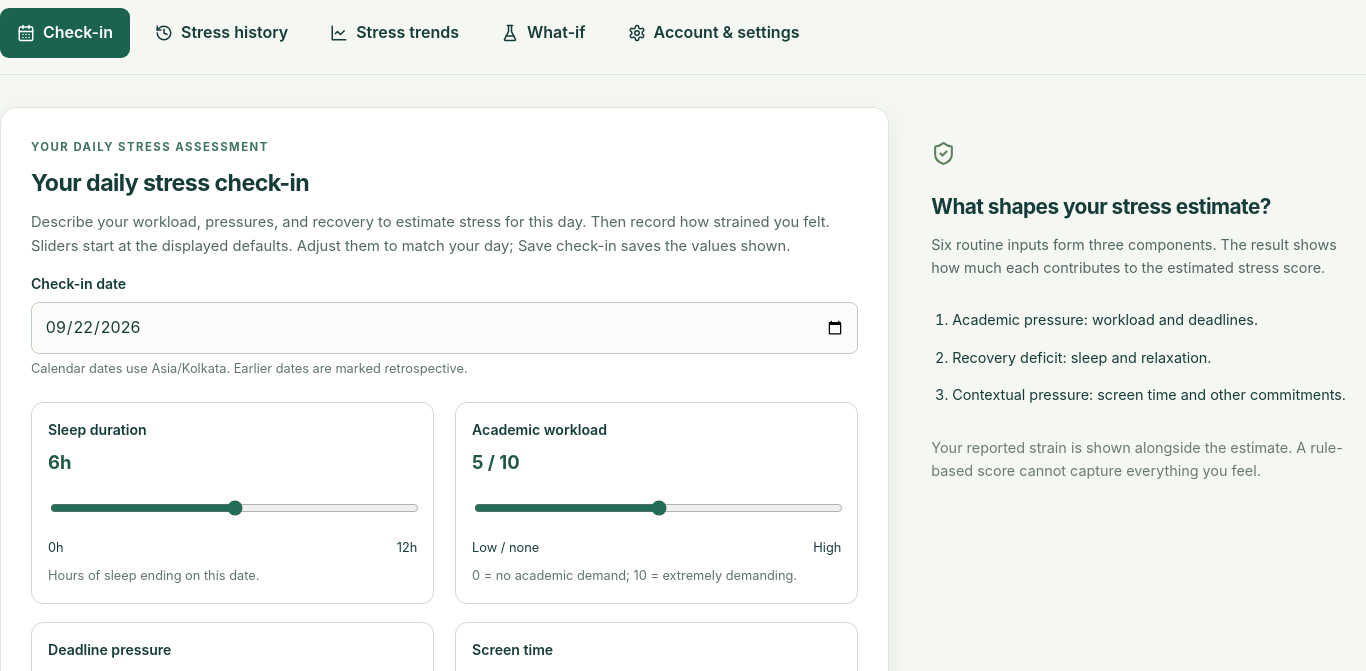
it: discards a superseded patterns response
The width and height of the screenshot is (1366, 671).
Click the button "Stress trends": (395, 33) [313, 8, 476, 58]
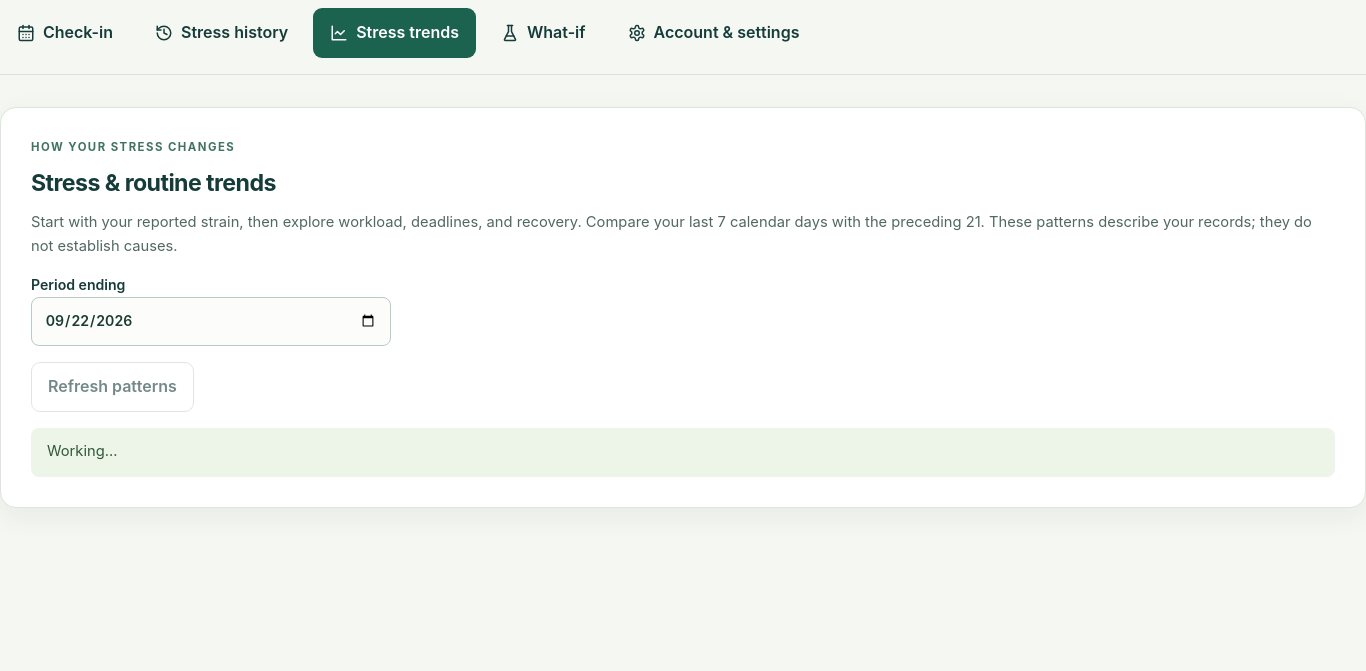
In the date field labelled "Period ending": (211, 321) [31, 297, 391, 346], type "2026-09-07"
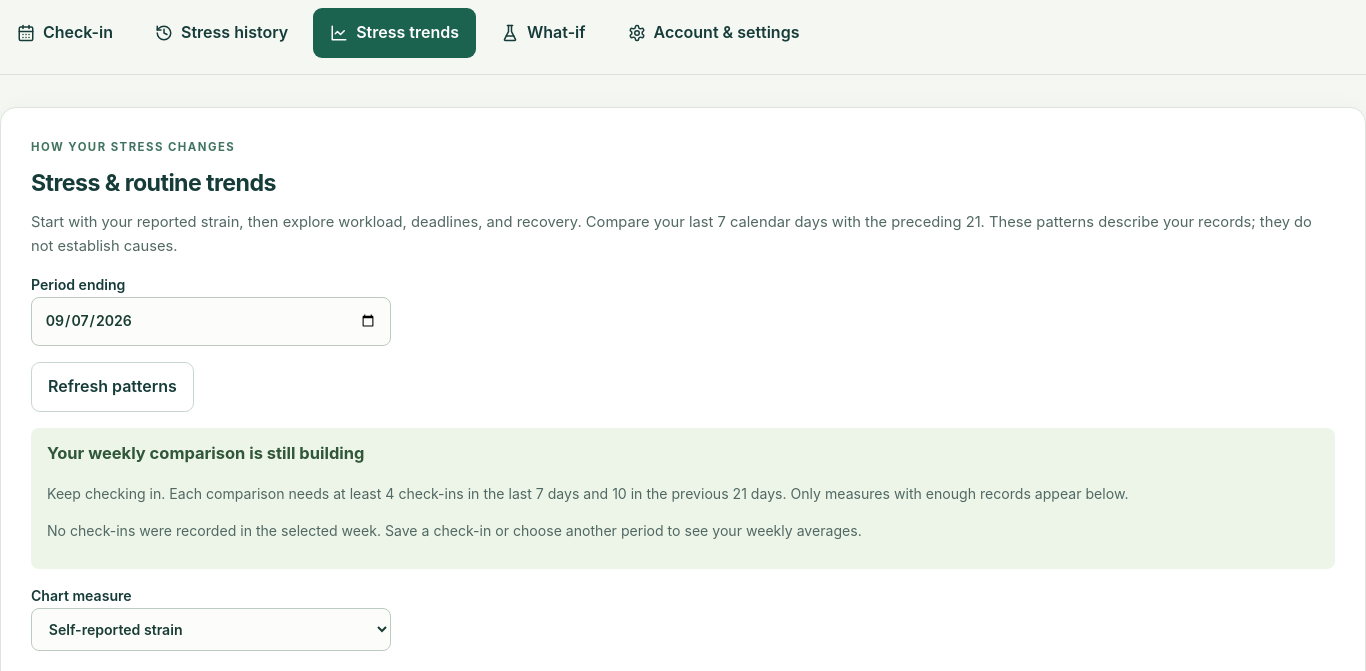
expect the heading "Your weekly comparison is still building" is shown: met, box [47, 443, 364, 463]
